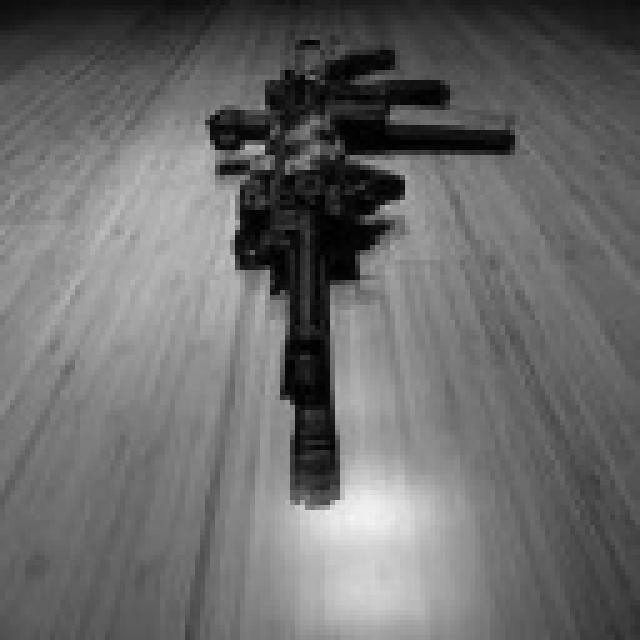Rifle: (184, 15, 534, 515)
